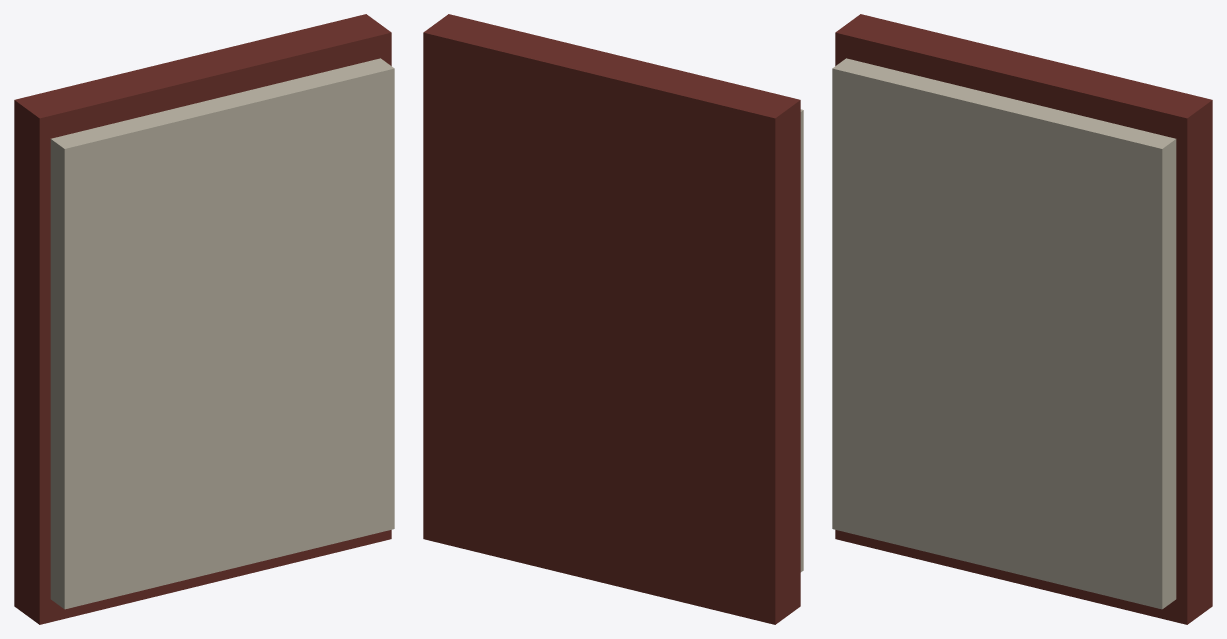
Rendered from hand_book.glb.
The picture shows the model from 3 angles, left to right: view 1: azimuth 30°, elevation 25°; view 2: azimuth 150°, elevation 25°; view 3: azimuth 330°, elevation 25°; orthographic projection.
Visible parts, largest first — view 1: room_hand_book; view 2: room_hand_book; view 3: room_hand_book.
Boxes of the visible parts, bbox=[...] form: room_hand_book: bbox=[14, 14, 394, 624]; room_hand_book: bbox=[423, 14, 803, 624]; room_hand_book: bbox=[832, 14, 1212, 624].
Size of the model in its own units: 0.16 by 0.22 by 0.031.
